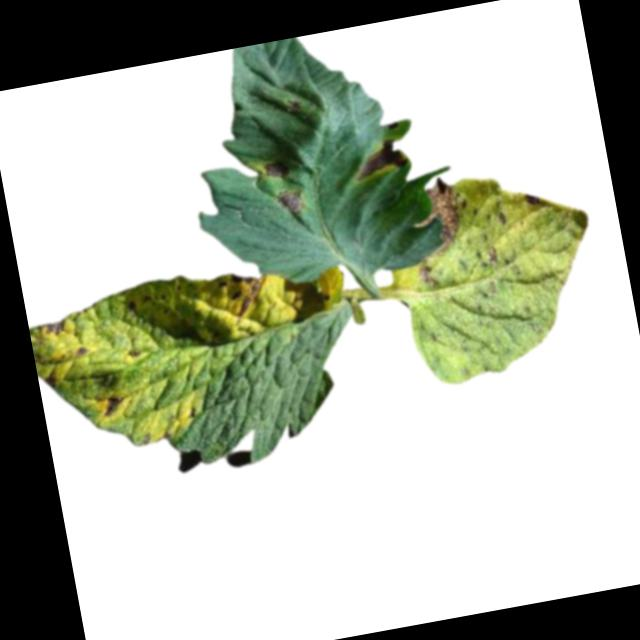Early_blight: (402, 175, 473, 290), (350, 135, 411, 182), (214, 270, 266, 323), (274, 188, 305, 220), (98, 391, 129, 421), (261, 159, 288, 184), (520, 188, 547, 212), (43, 317, 66, 338), (482, 243, 498, 267)
